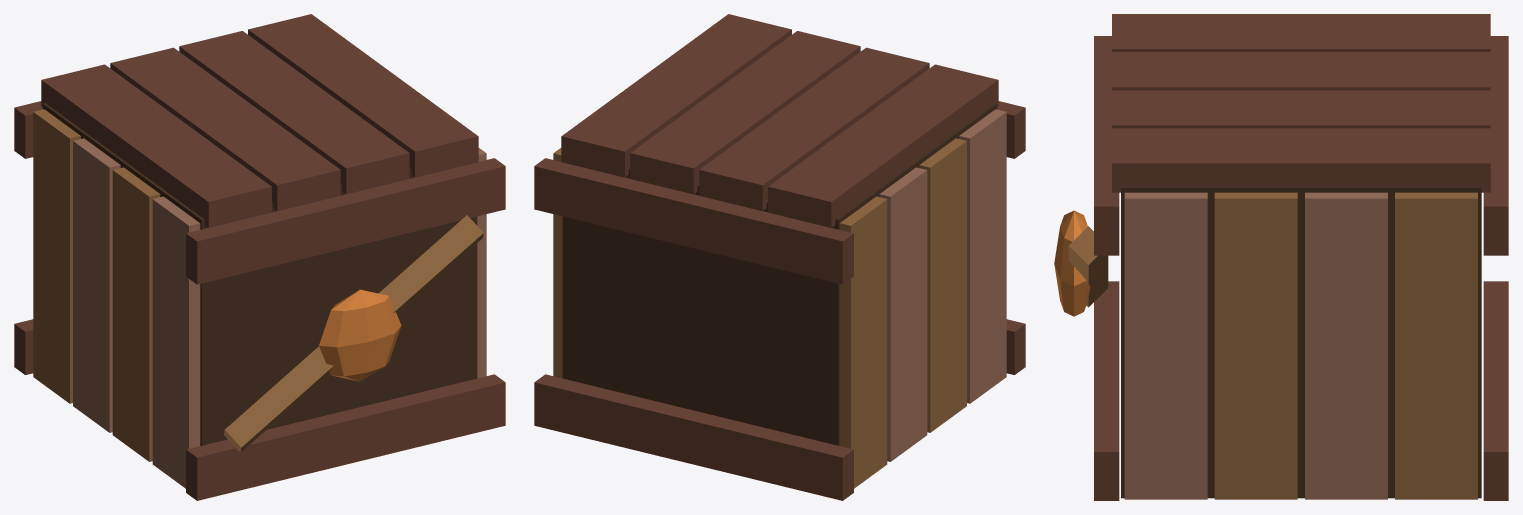
The picture shows the model from 3 angles, left to right: view 1: azimuth 30°, elevation 25°; view 2: azimuth 150°, elevation 25°; view 3: azimuth 270°, elevation 25°; orthographic projection. The views are drawn at different scales.
Visible parts, largest first — view 1: supply-crate; view 2: supply-crate; view 3: supply-crate.
Part boxes in pixels (x1,y1,x2,y2): supply-crate: (14, 14, 505, 500); supply-crate: (534, 14, 1025, 500); supply-crate: (1054, 14, 1508, 500).
Bounding box in the file's own units: 1.12 × 1.02 × 1.26.
